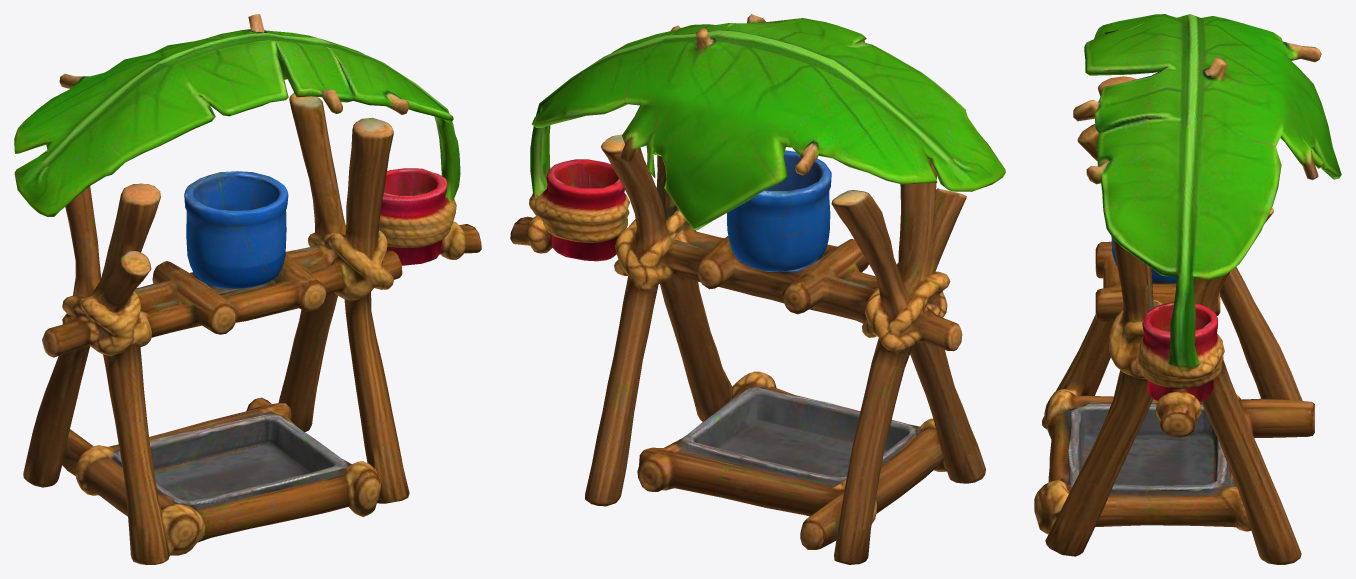
Rendered from purifier_v2.glb.
The picture shows the model from 3 angles, left to right: view 1: azimuth 30°, elevation 25°; view 2: azimuth 150°, elevation 25°; view 3: azimuth 270°, elevation 25°; orthographic projection. The views are drawn at different scales.
Size of the model in its own units: 1.91 by 1.81 by 1.08.
Materials: 1 (1 with a texture image).
